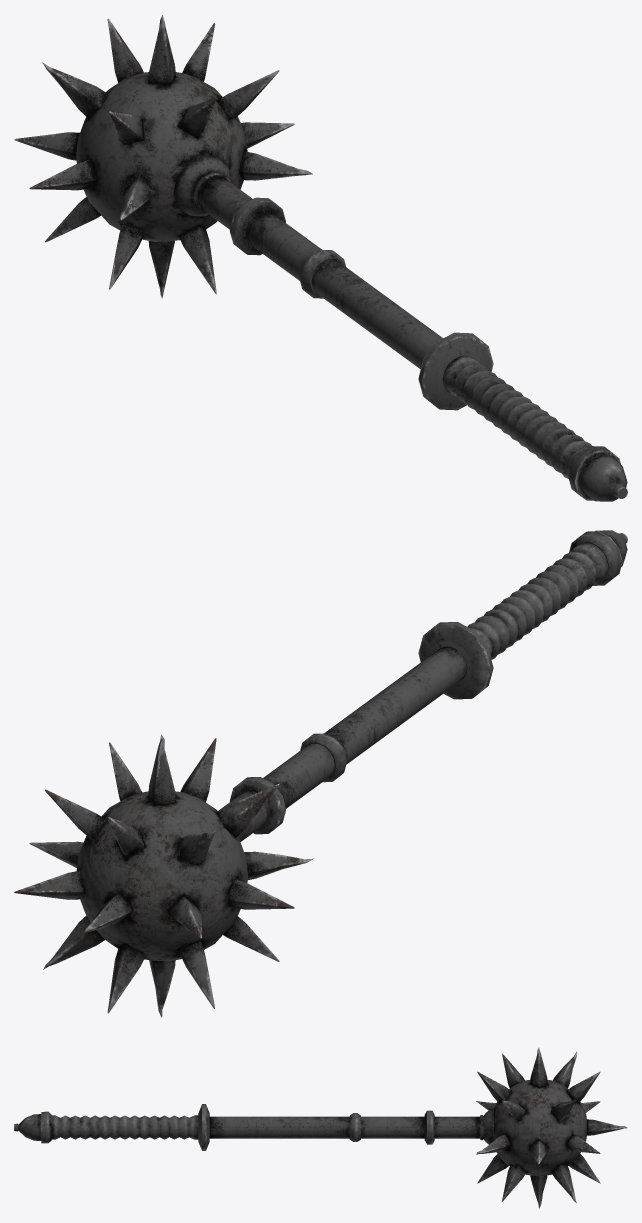
The picture shows the model from 3 angles, top to bottom: view 1: azimuth 30°, elevation 25°; view 2: azimuth 150°, elevation 25°; view 3: azimuth 270°, elevation 25°; orthographic projection. The views are drawn at different scales.
Visible parts, largest first — view 1: WP_A_0812; view 2: WP_A_0812; view 3: WP_A_0812.
Boxes of the visible parts, x1,y1,x2,y2 form: WP_A_0812: (14, 15, 627, 501); WP_A_0812: (14, 530, 627, 1017); WP_A_0812: (14, 1047, 627, 1208).
Bounding box in the file's own units: 27.05 × 27.68 × 95.02.
1 material, 1 textured.
